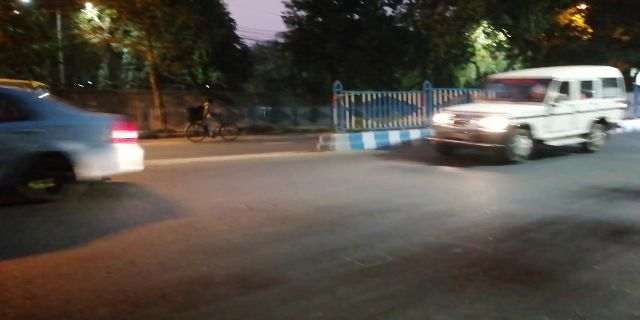Car: (9, 88, 146, 189)
Van: (421, 69, 630, 152)
